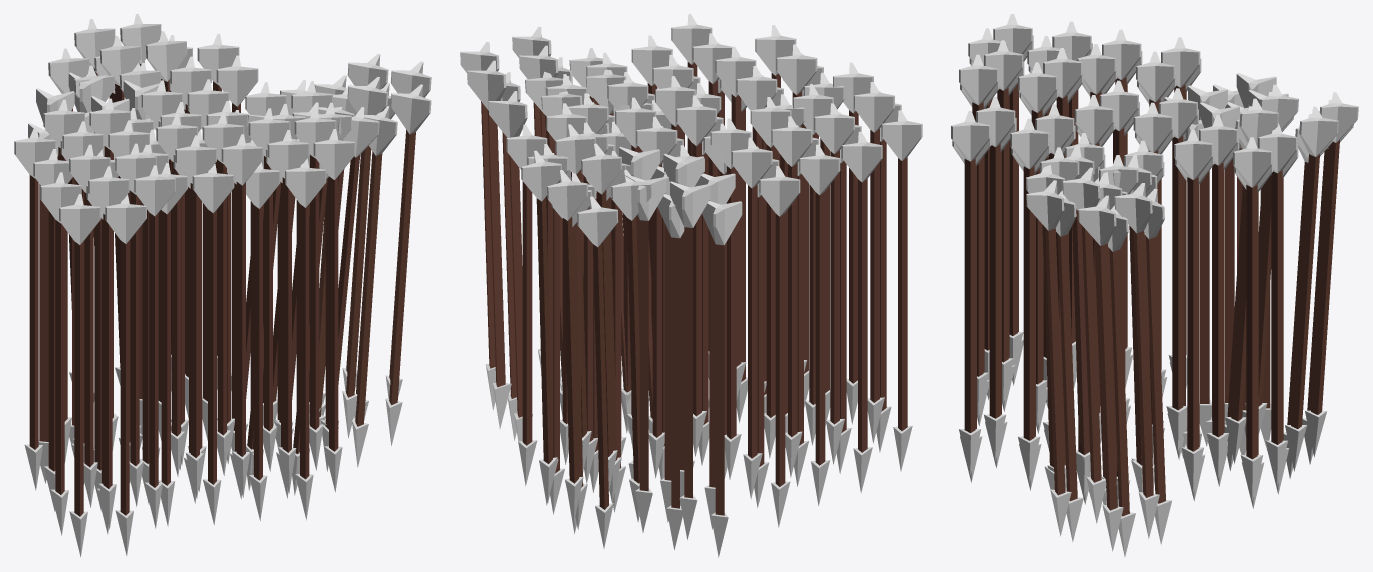
The model's file is arrow_rain.fbx.
3 views of the same model, side by side, from view 1: azimuth 30°, elevation 25°; view 2: azimuth 150°, elevation 25°; view 3: azimuth 270°, elevation 25° (orthographic).
Visible parts, largest first — view 1: Arrow.030, Arrow.046, Arrow.036, Arrow.038, Arrow.037, Arrow.045, Arrow.047, Arrow.039, Arrow.031, Arrow.011, Arrow.081, Arrow.035 (+63 smaller); view 2: Arrow.011, Arrow.012, Arrow.008, Arrow.036, Arrow.035, Arrow.019, Arrow.087, Arrow.076, Arrow.079, Arrow.062, Arrow.078, Arrow.032 (+62 smaller); view 3: Arrow.057, Arrow.046, Arrow.062, Arrow.078, Arrow.047, Arrow.056, Arrow.063, Arrow.041, Arrow.086, Arrow.079, Arrow.081, Arrow.087 (+57 smaller).
Part boxes in pixels (box(x1,y1,x2,y2)): Arrow.030: box(221, 134, 263, 497); Arrow.046: box(313, 129, 355, 492); Arrow.036: box(59, 194, 100, 557); Arrow.038: box(134, 165, 175, 528); Arrow.037: box(105, 194, 146, 555); Arrow.045: box(285, 158, 326, 520); Arrow.047: box(267, 130, 309, 493); Arrow.039: box(88, 166, 129, 529); Arrow.031: box(175, 135, 216, 498); Arrow.011: box(14, 127, 55, 490); Arrow.081: box(385, 84, 431, 446); Arrow.035: box(40, 172, 81, 535); Arrow.011: box(759, 166, 800, 527); Arrow.012: box(799, 144, 840, 505); Arrow.008: box(731, 137, 772, 499); Arrow.036: box(881, 110, 922, 471); Arrow.035: box(841, 131, 882, 493); Arrow.019: box(702, 201, 742, 557); Arrow.087: box(467, 60, 511, 428); Arrow.076: box(577, 196, 618, 548); Arrow.079: box(547, 170, 587, 522); Arrow.062: box(506, 124, 547, 486); Arrow.078: box(521, 150, 561, 502); Arrow.032: box(814, 103, 854, 464); Arrow.057: box(1174, 129, 1213, 493); Arrow.046: box(951, 111, 990, 475); Arrow.062: box(1233, 137, 1272, 501); Arrow.078: box(1285, 106, 1338, 471); Arrow.047: box(976, 96, 1015, 460); Arrow.056: box(1199, 115, 1238, 479); Arrow.063: box(1258, 123, 1297, 486); Arrow.041: box(1010, 118, 1049, 482); Arrow.086: box(1078, 195, 1123, 551); Arrow.079: box(1305, 92, 1358, 457); Arrow.081: box(1026, 180, 1071, 536); Arrow.087: box(1114, 183, 1159, 538).
Size of the model in its own units: 77.61 by 74.59 by 66.24.
